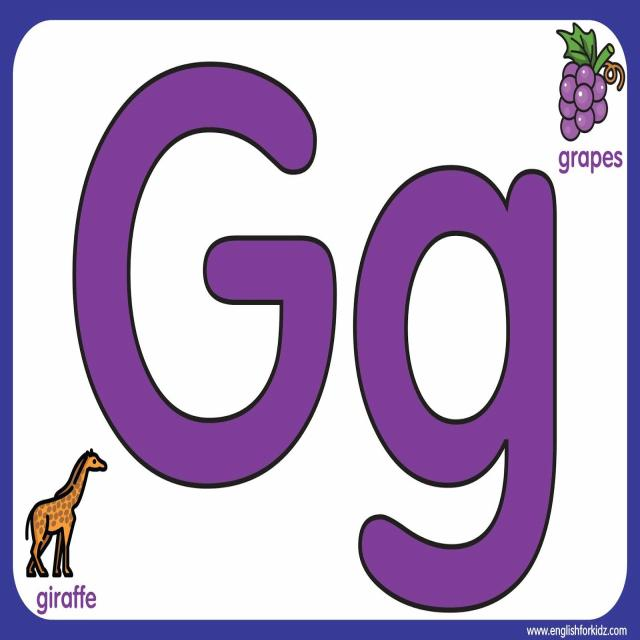G: (46, 35, 347, 524)
